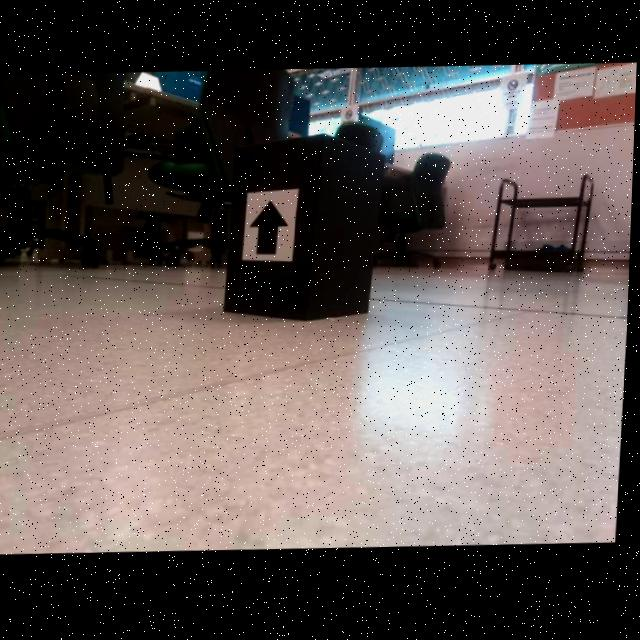UP: (250, 202, 291, 257)
